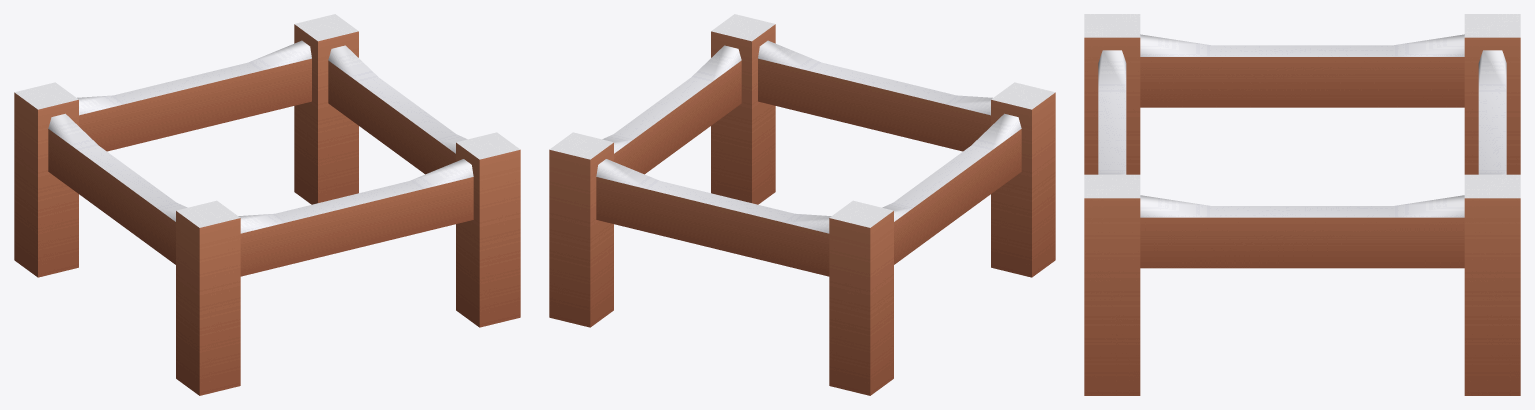
The model's file is snow-wood-structure.glb.
3 renders of one model, left to right at view 1: azimuth 30°, elevation 25°; view 2: azimuth 150°, elevation 25°; view 3: azimuth 270°, elevation 25°, orthographic. The views are drawn at different scales.
Parts seen in each view (by area): view 1: snow-wood-structure; view 2: snow-wood-structure; view 3: snow-wood-structure.
Boxes of the visible parts, x1=… form: snow-wood-structure: x1=14, y1=14, x2=520, y2=395; snow-wood-structure: x1=549, y1=14, x2=1055, y2=395; snow-wood-structure: x1=1084, y1=14, x2=1520, y2=395.
Bounding box in the file's own units: 1 × 0.5 × 1.
1 material, 1 textured.
